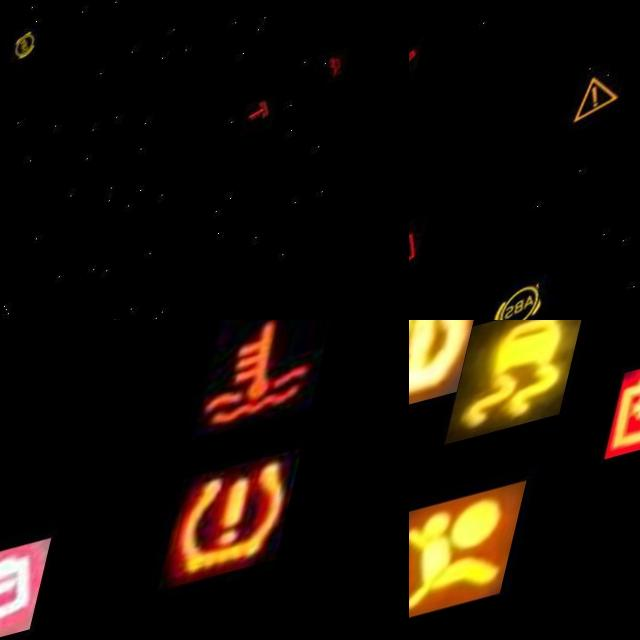Engine cooling system: (214, 323, 354, 466)
